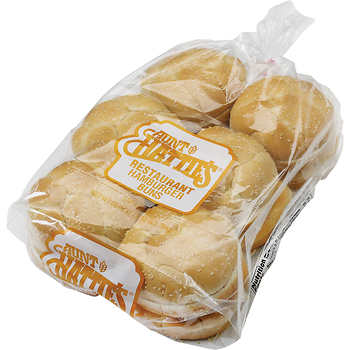hamburger_buns: (51, 35, 312, 327)
